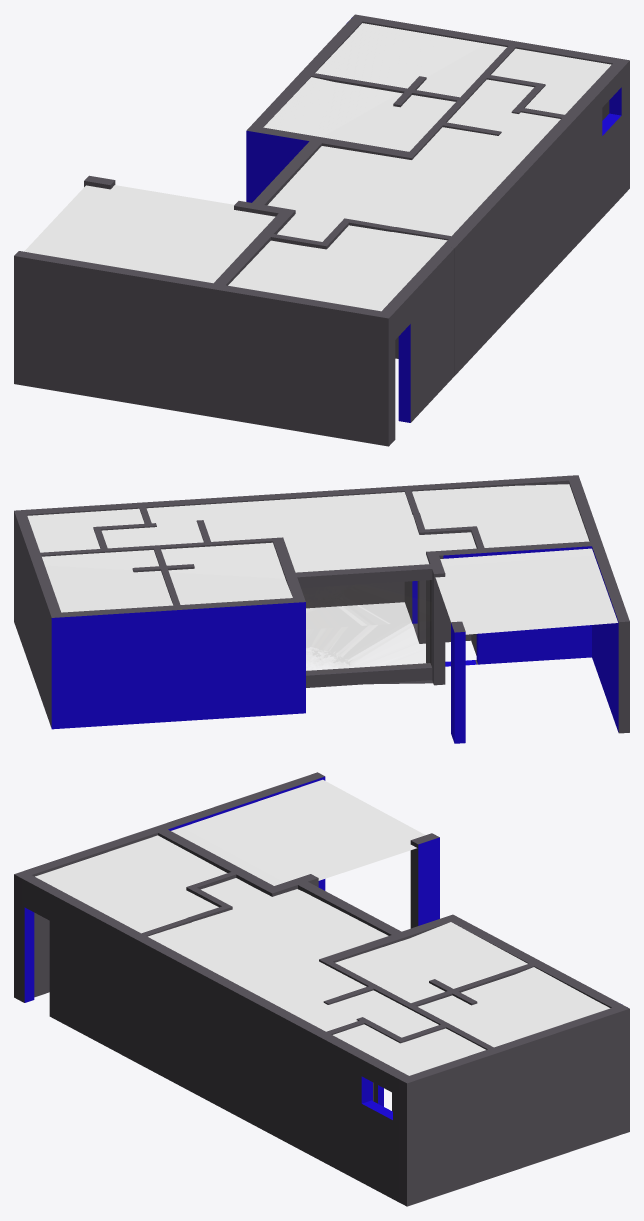
File: DamagedHelmet.gltf
3 views of the same model, one above another, from view 1: azimuth 30°, elevation 25°; view 2: azimuth 150°, elevation 25°; view 3: azimuth 270°, elevation 25° (orthographic). The views are drawn at different scales.
Visible parts, largest first — view 1: Plane, Plane.006; view 2: Plane, Plane.006, Cube; view 3: Plane, Plane.006.
Part boxes in pixels (bbox=[...]): Plane: bbox=[14, 14, 629, 446]; Plane.006: bbox=[24, 23, 611, 310]; Plane: bbox=[14, 475, 629, 743]; Plane.006: bbox=[27, 484, 617, 634]; Cube: bbox=[306, 585, 430, 664]; Plane: bbox=[14, 772, 629, 1206]; Plane.006: bbox=[35, 779, 610, 1075].
Size of what is drawn, in the model's own units: 14.62 by 2.82 by 12.23.
4 materials, 1 textured.
